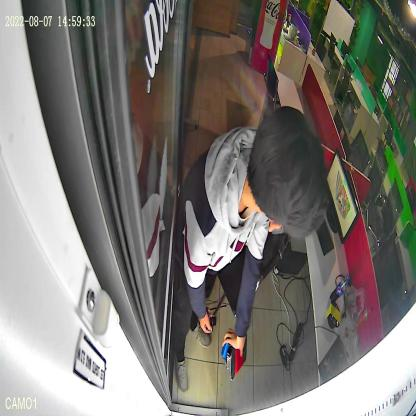blue: (221, 330, 233, 361)
red: (226, 334, 247, 382)
